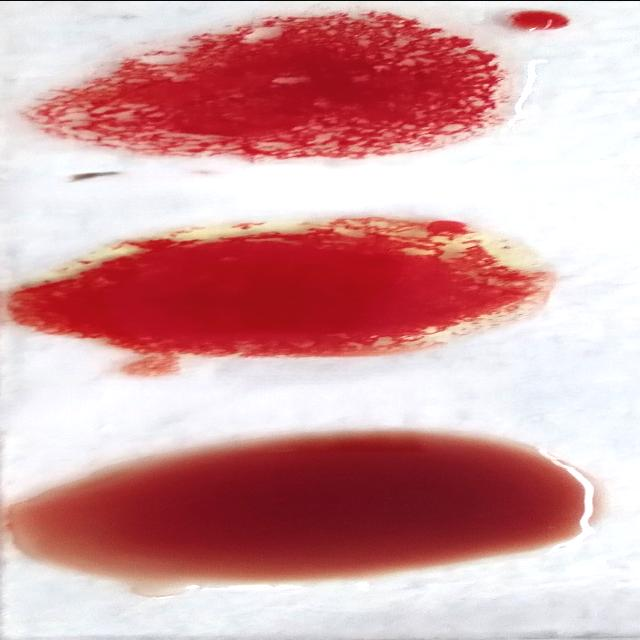B: (0, 220, 548, 358)
D: (38, 10, 532, 156)
